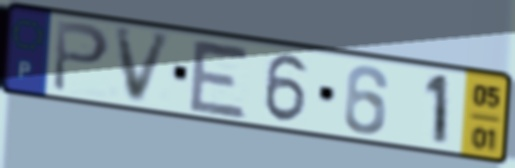1: (421, 72, 452, 148)
6: (341, 62, 391, 136), (262, 51, 310, 126)
E: (186, 35, 253, 122)
P: (49, 17, 113, 95)
V: (112, 26, 177, 106)
